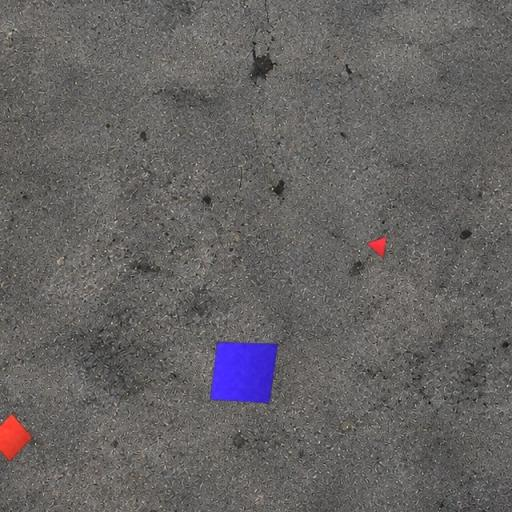BLUE_SQUARE: (210, 342, 278, 404)
RED_SQUARE: (0, 412, 33, 462)
